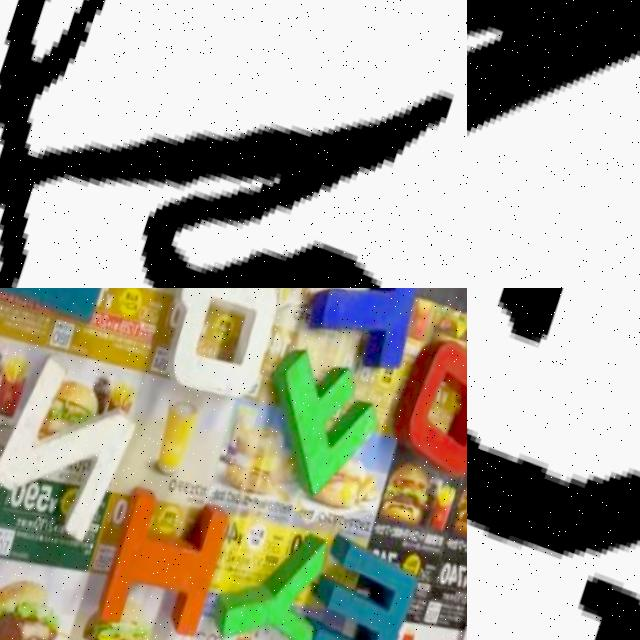C: (467, 418, 640, 554)
F: (254, 333, 395, 496)
I: (87, 469, 237, 640)
M: (306, 529, 420, 640)
O: (385, 322, 467, 476)
Q: (152, 288, 287, 402)
T: (302, 288, 434, 373)
Y: (0, 0, 467, 288), (207, 494, 343, 640)
Z: (0, 337, 147, 544)
